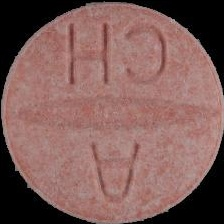54868-4413: (0, 0, 224, 224)
